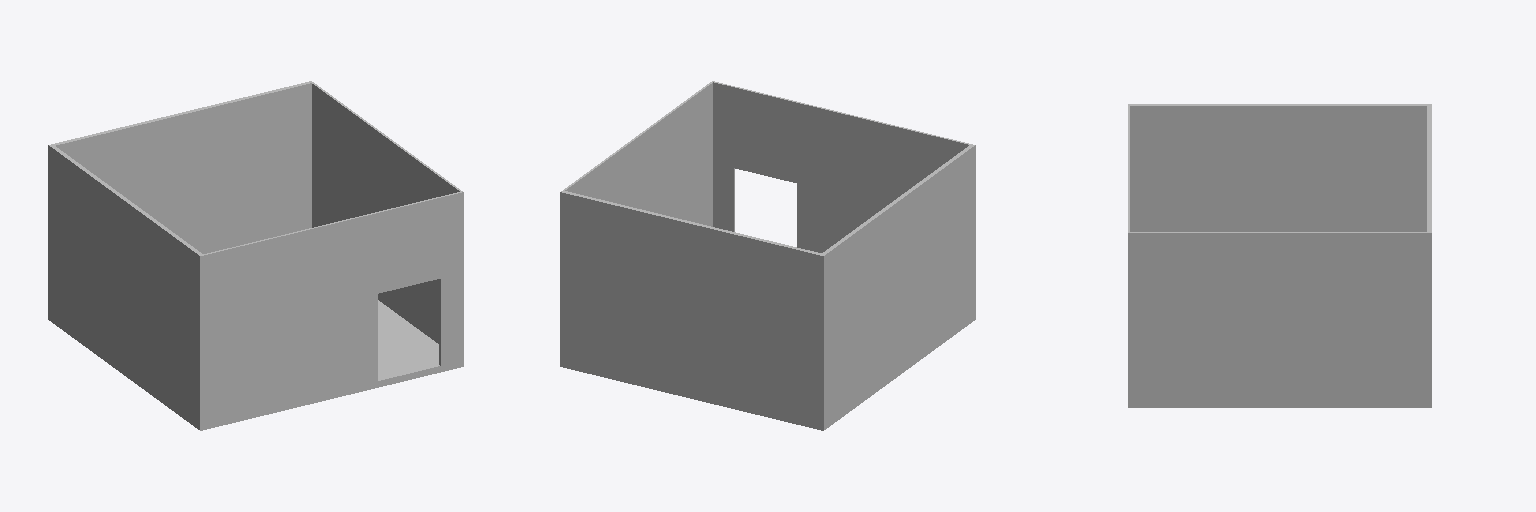
File: 4x2 third-3.obj
3 views of the same model, side by side, from view 1: azimuth 30°, elevation 25°; view 2: azimuth 150°, elevation 25°; view 3: azimuth 270°, elevation 25° (orthographic).
Visible parts, largest first — view 1: 4x2 third-3; view 2: 4x2 third-3; view 3: 4x2 third-3.
Boxes of the visible parts, <box> form: 4x2 third-3: <box>48,81,463,430</box>; 4x2 third-3: <box>560,81,975,430</box>; 4x2 third-3: <box>1128,104,1431,407</box>.
Bounding box in the file's own units: 126 × 80 × 126.